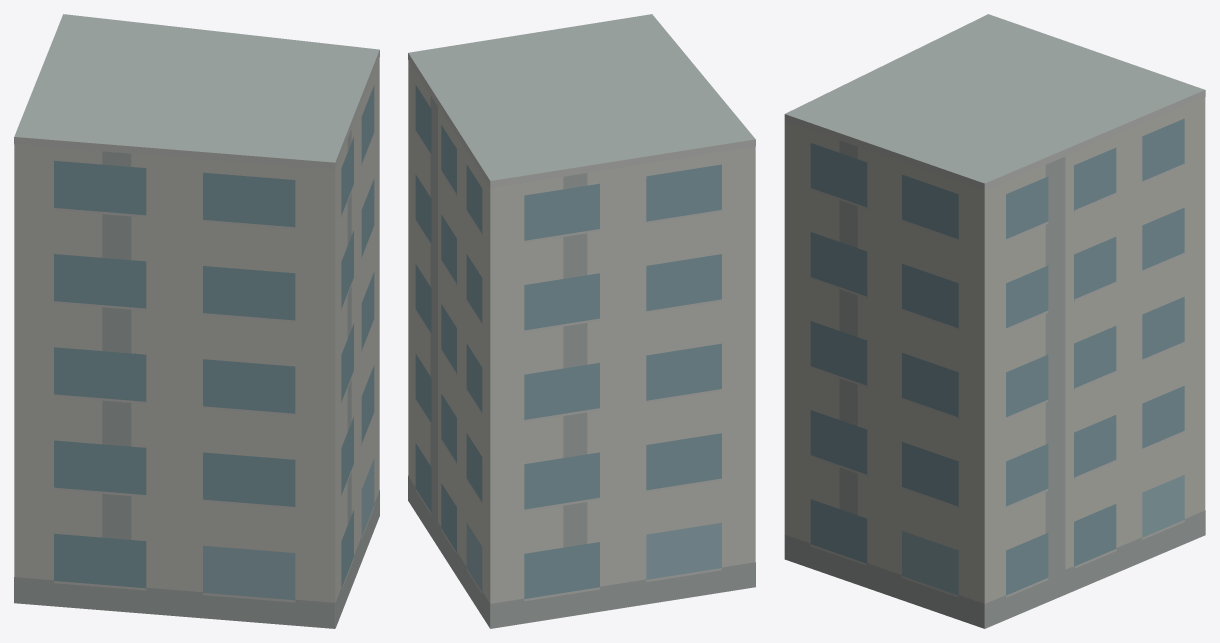
File: residential-19474ed6-82dd-4c9c-90d7-63736b32a2a9.glb
3 renders of one model, left to right at view 1: azimuth 30°, elevation 25°; view 2: azimuth 150°, elevation 25°; view 3: azimuth 270°, elevation 25°, orthographic. The views are drawn at different scales.
Parts seen in each view (by area): view 1: residential-19474ed6-82dd-4c9c-90d7-63736b32a2a9.tmp; view 2: residential-19474ed6-82dd-4c9c-90d7-63736b32a2a9.tmp; view 3: residential-19474ed6-82dd-4c9c-90d7-63736b32a2a9.tmp.
Part boxes in pixels (x1,y1,x2,y2): residential-19474ed6-82dd-4c9c-90d7-63736b32a2a9.tmp: (14, 14, 379, 628); residential-19474ed6-82dd-4c9c-90d7-63736b32a2a9.tmp: (408, 14, 755, 628); residential-19474ed6-82dd-4c9c-90d7-63736b32a2a9.tmp: (784, 14, 1205, 628).
Bounding box in the file's own units: 12.46 × 15.25 × 13.07.
